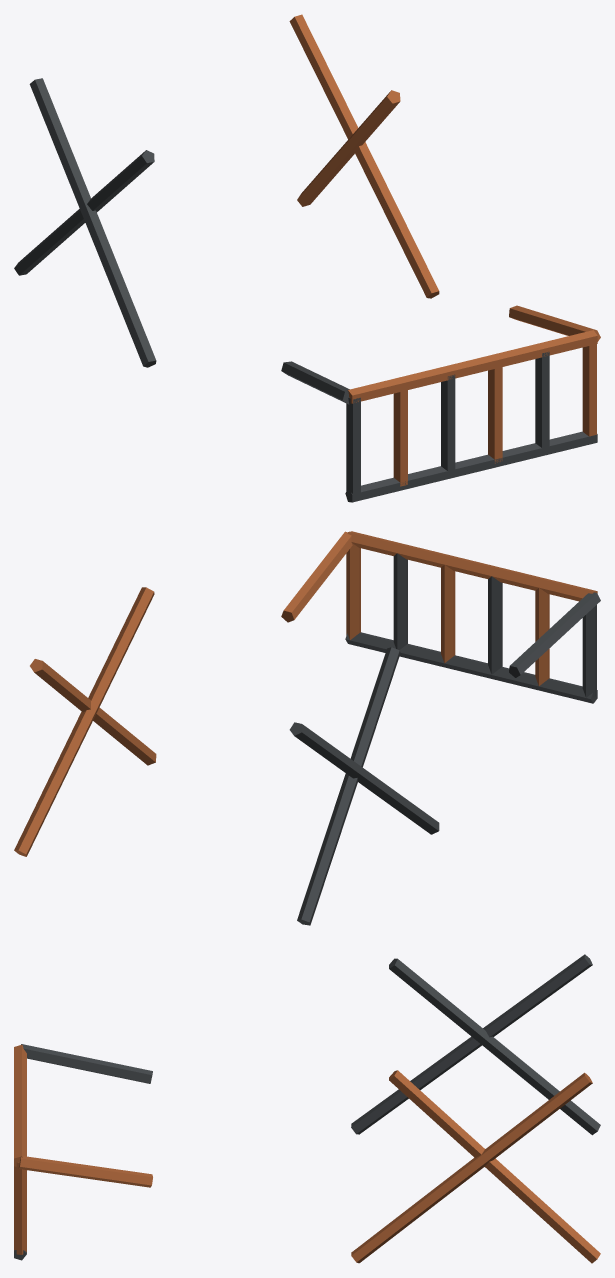
The model's file is upg_cage_t3.glb.
3 renders of one model, top to bottom at view 1: azimuth 30°, elevation 25°; view 2: azimuth 150°, elevation 25°; view 3: azimuth 270°, elevation 25°, orthographic. The views are drawn at different scales.
Visible parts, largest first — view 1: cage; view 2: cage; view 3: cage.
Part boxes in pixels (x1=…): cage: x1=14, y1=14, x2=600, y2=502; cage: x1=14, y1=531, x2=600, y2=925; cage: x1=14, y1=954, x2=600, y2=1263.
Size of the model in its own units: 1.25 by 0.8269 by 2.31.
